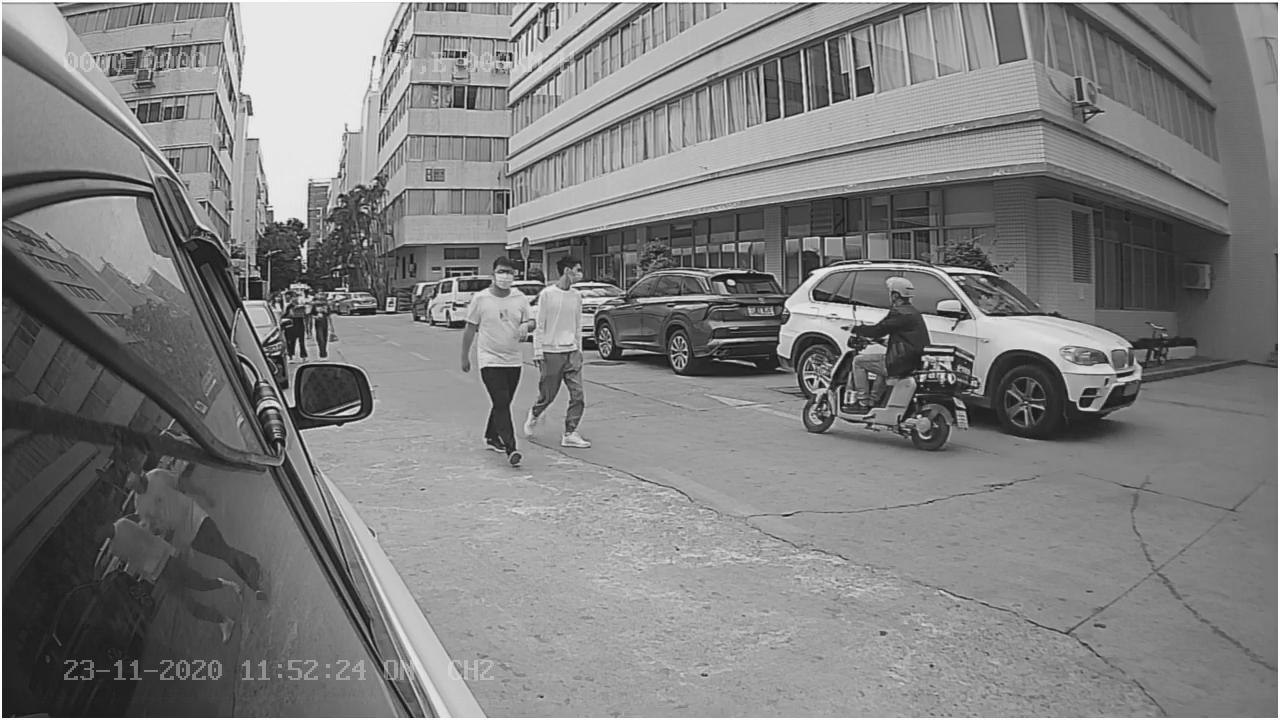person: (466, 248, 526, 461), (531, 252, 595, 445)
